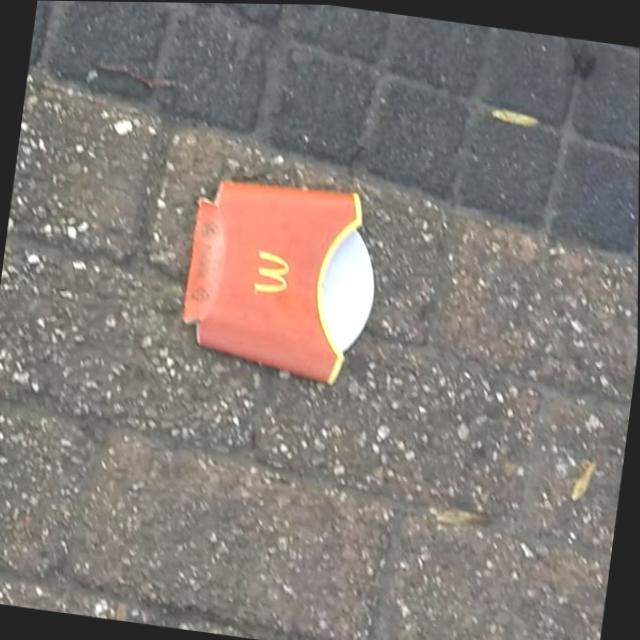Paper: (173, 167, 390, 389)
